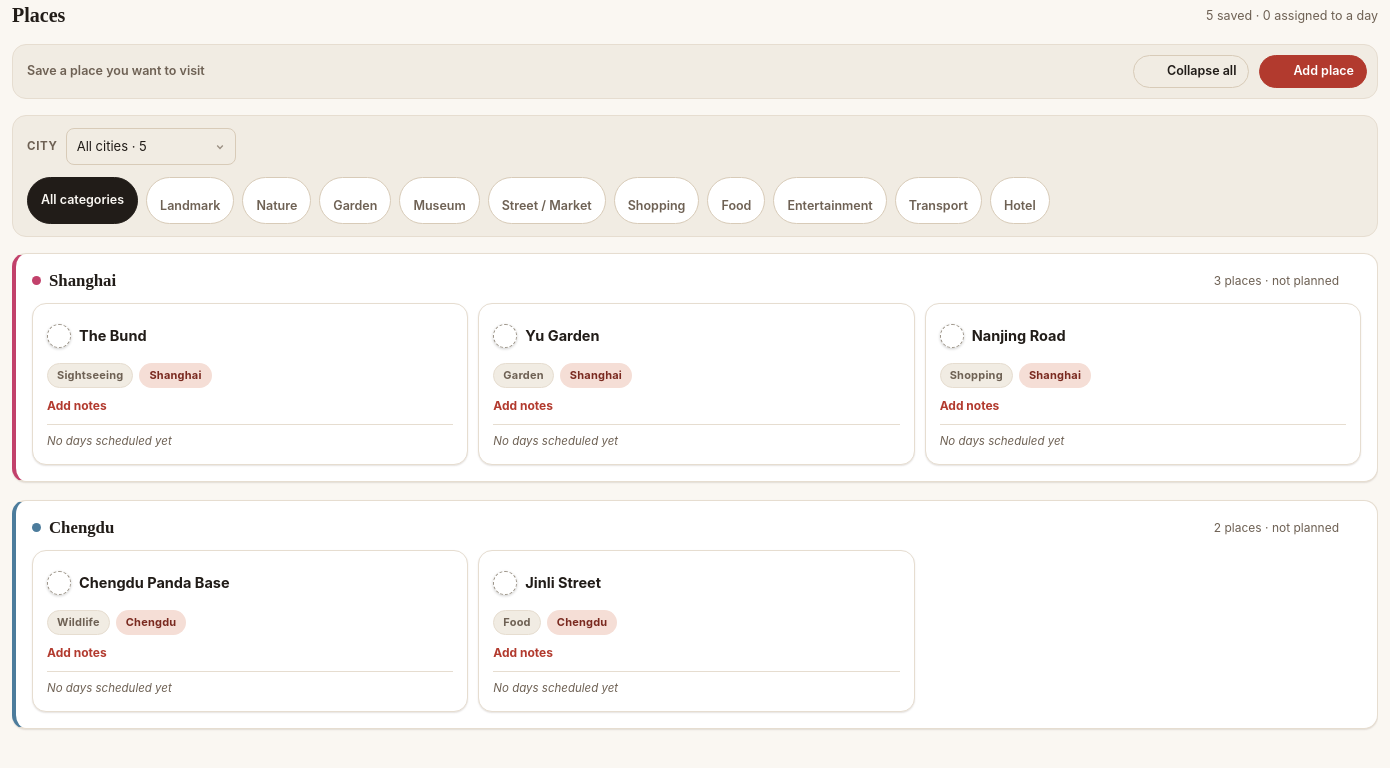
Scenario: PlacesPanel — filters › the "Nature" category chip matches a legacy "Wildlife" seed place
What coordinates should you click on to do the following:
click the button "Nature"
I would click on:
 (277, 201)
Its box is [242, 177, 311, 224].
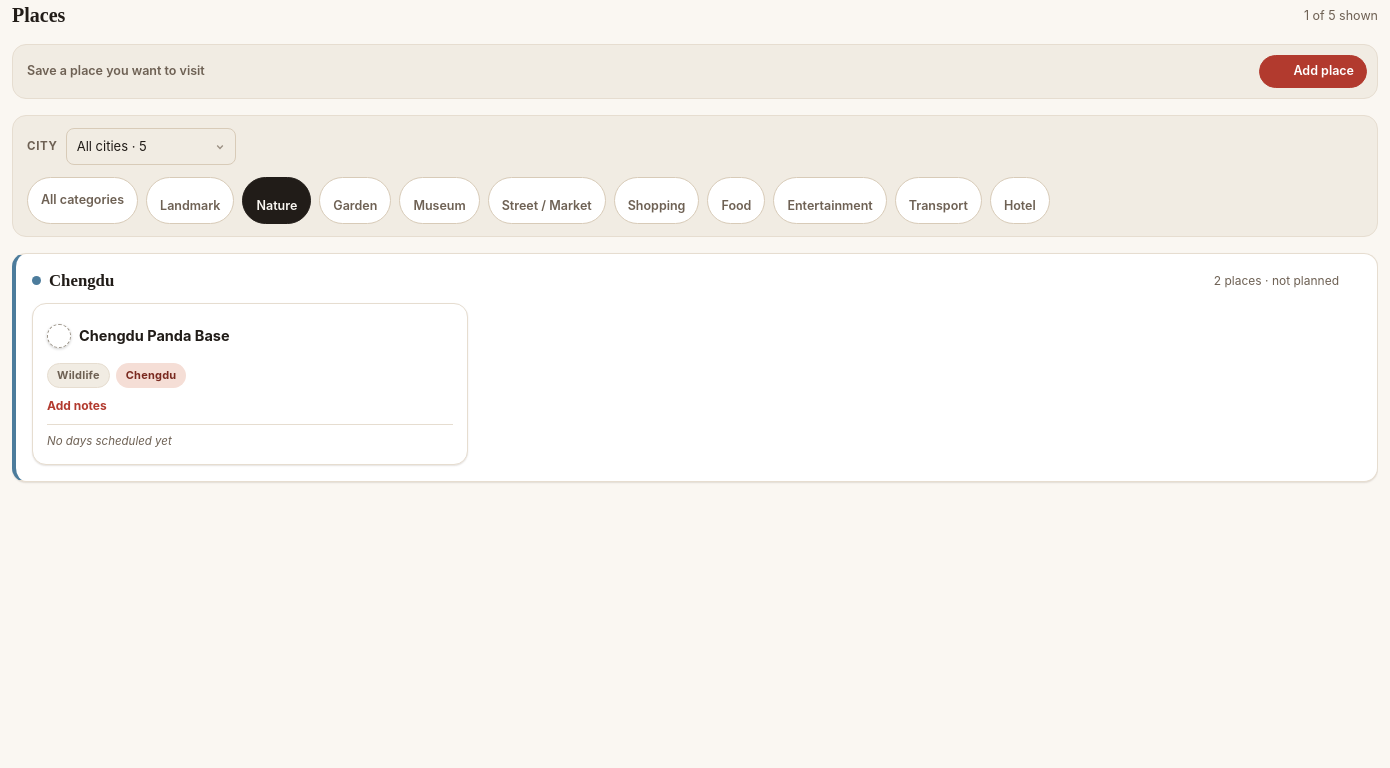
Check: the text "Chengdu Panda Base" is shown, box [79, 327, 230, 346]
Check: the text "1 of 5 shown" is shown, box [1304, 7, 1378, 25]
